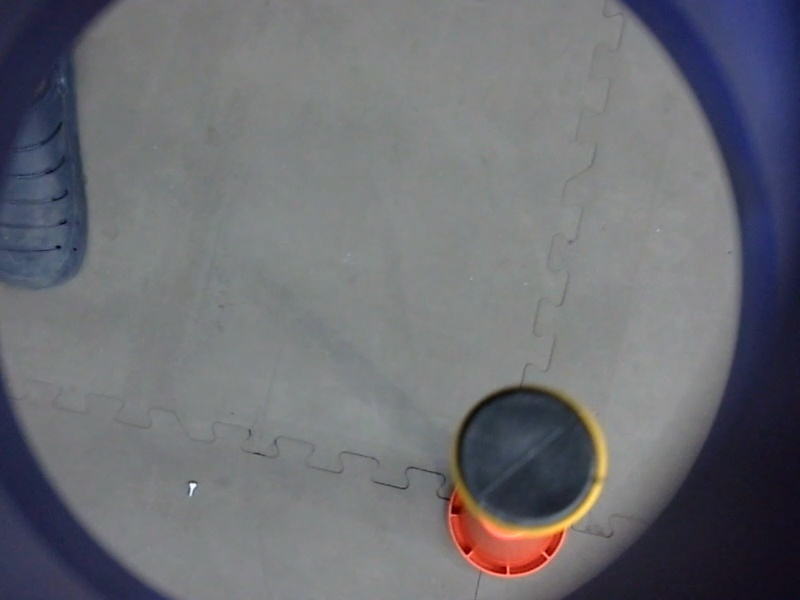tip: (441, 378, 613, 544)
